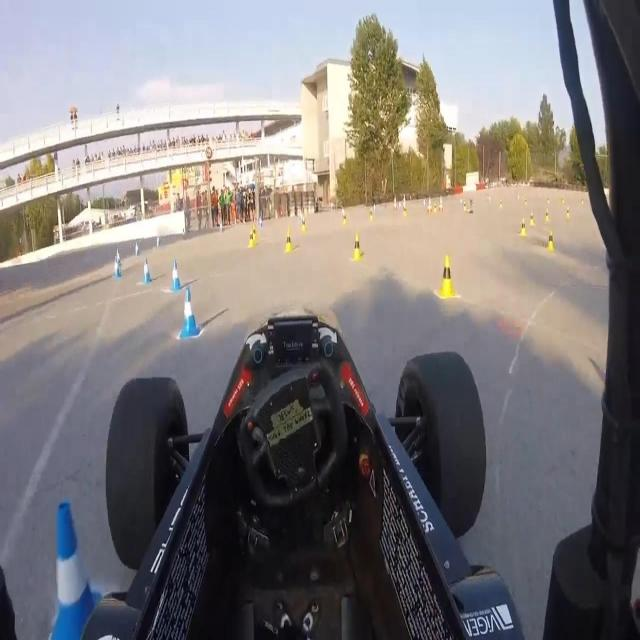blue_cone: (41, 490, 102, 640), (436, 250, 460, 298), (180, 285, 200, 337), (136, 254, 160, 294), (109, 248, 128, 290), (167, 261, 184, 295), (283, 226, 297, 259), (351, 233, 364, 262), (249, 229, 259, 255)
